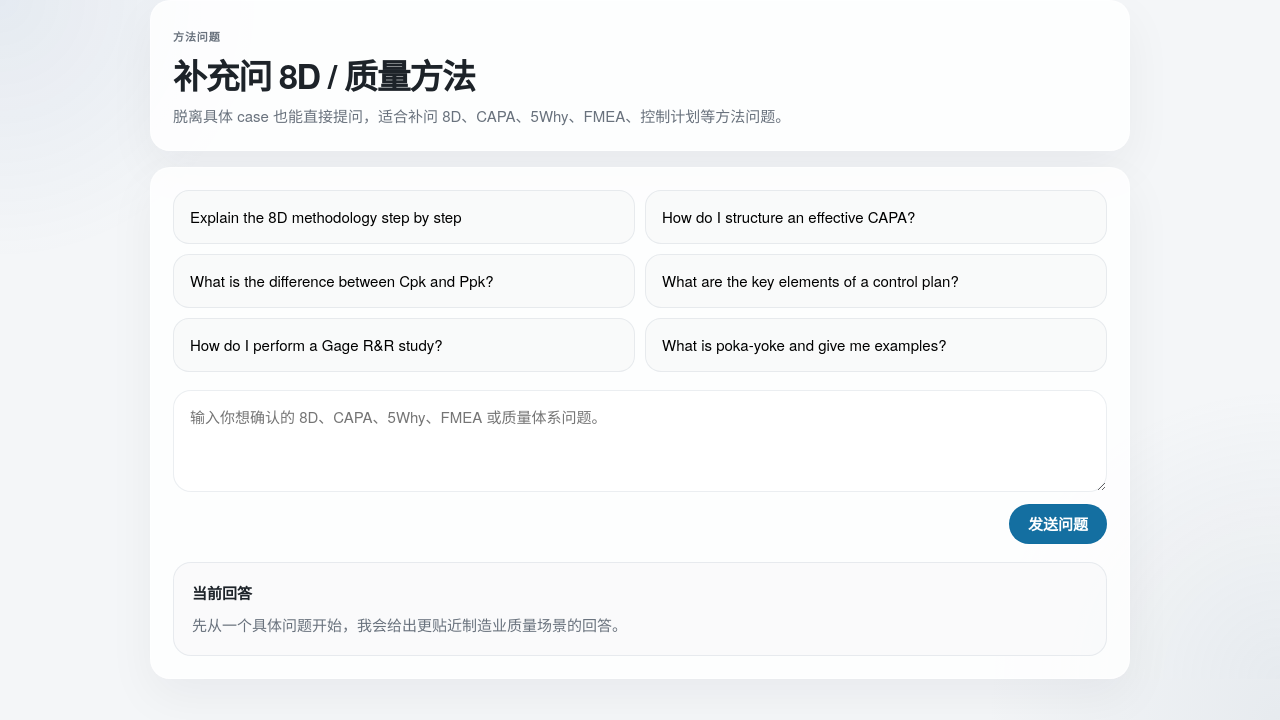
Scenario: CopilotPage › submits a copilot question and renders the answer
In the text box named "方法助手输入框": (640, 441) top-left (173, 390), bottom-right (1107, 492), type "Explain the 8D methodology step by step"
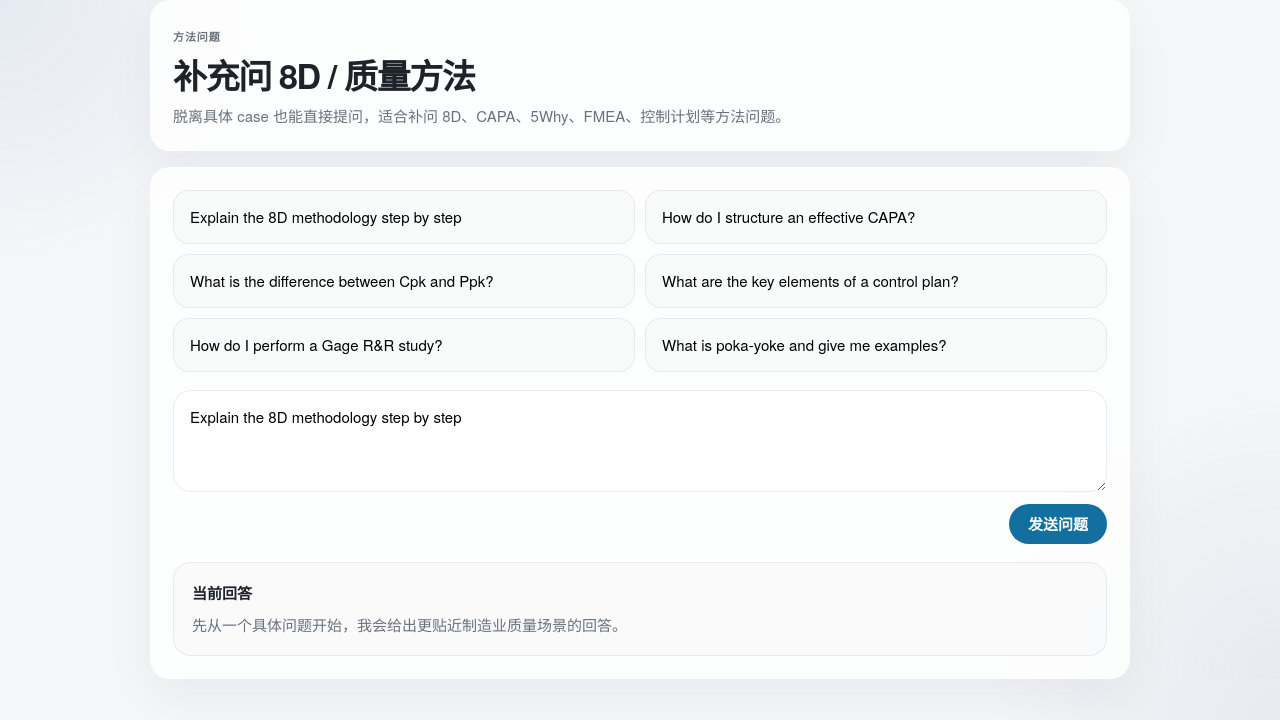
Click the button "发送问题": (1058, 524) top-left (1009, 504), bottom-right (1107, 544)
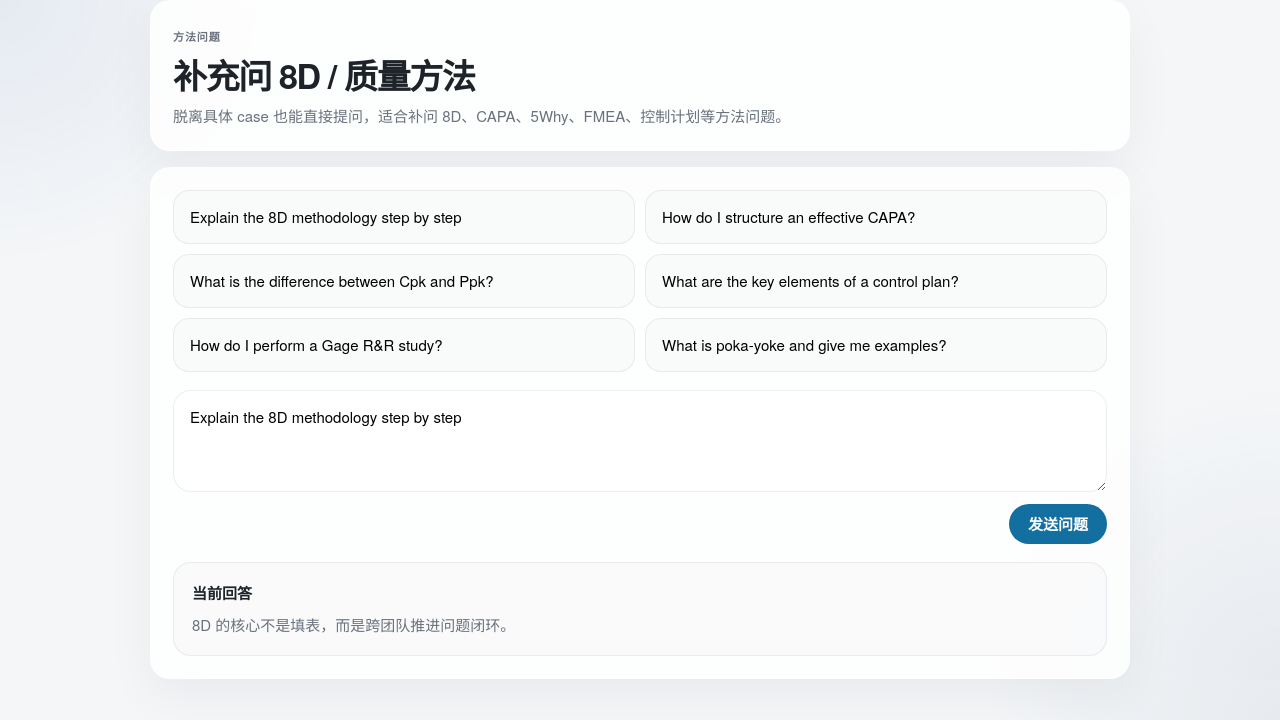
Now the text "8D 的核心不是填表，而是跨团队推进问题闭环。" is shown, box top-left (192, 614), bottom-right (515, 635)
